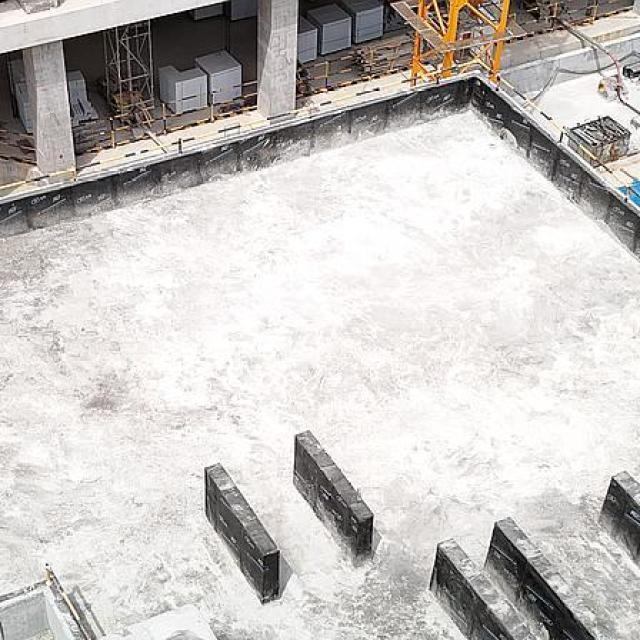edge_guardrail: (0, 57, 640, 202), (69, 80, 258, 156), (296, 38, 415, 98), (508, 0, 635, 36), (0, 128, 37, 166)
